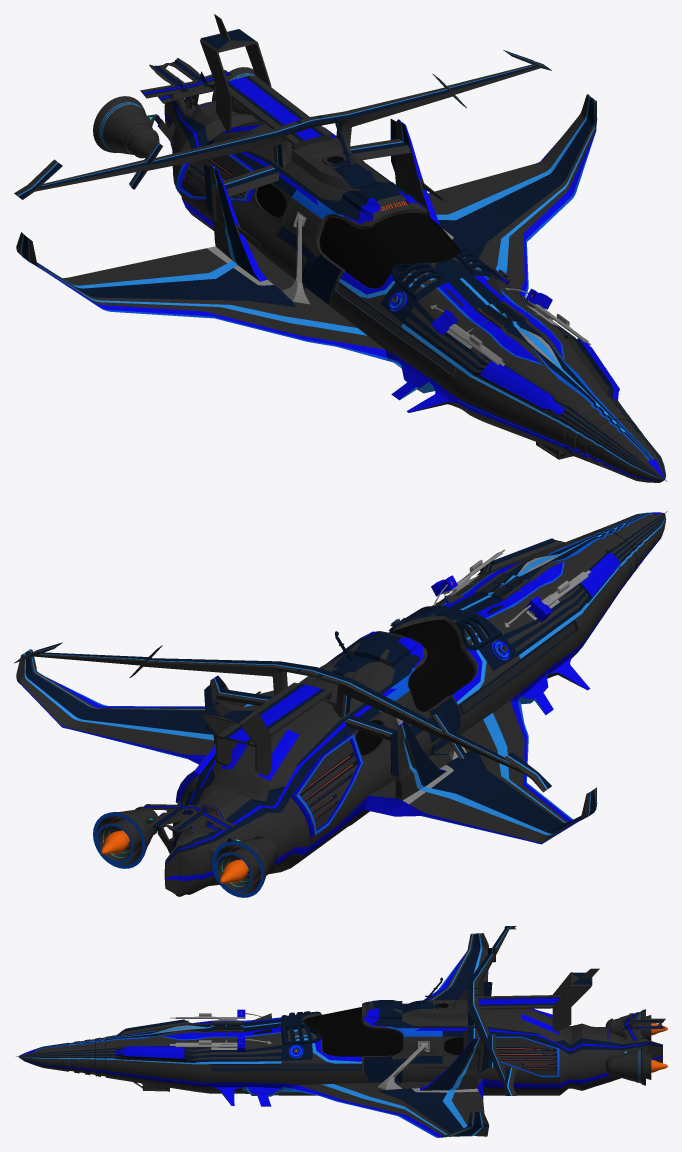
File: nave.fbx
The picture shows the model from 3 angles, top to bottom: view 1: azimuth 30°, elevation 25°; view 2: azimuth 150°, elevation 25°; view 3: azimuth 270°, elevation 25°; orthographic projection. The views are drawn at different scales.
Visible parts, largest first — view 1: Cylinder; view 2: Cylinder; view 3: Cylinder.
Boxes of the visible parts, x1=… form: Cylinder: x1=14, y1=14, x2=667, y2=482; Cylinder: x1=14, y1=511, x2=667, y2=897; Cylinder: x1=16, y1=926, x2=667, y2=1137.
Bounding box in the file's own units: 1845 × 581 × 2846.
